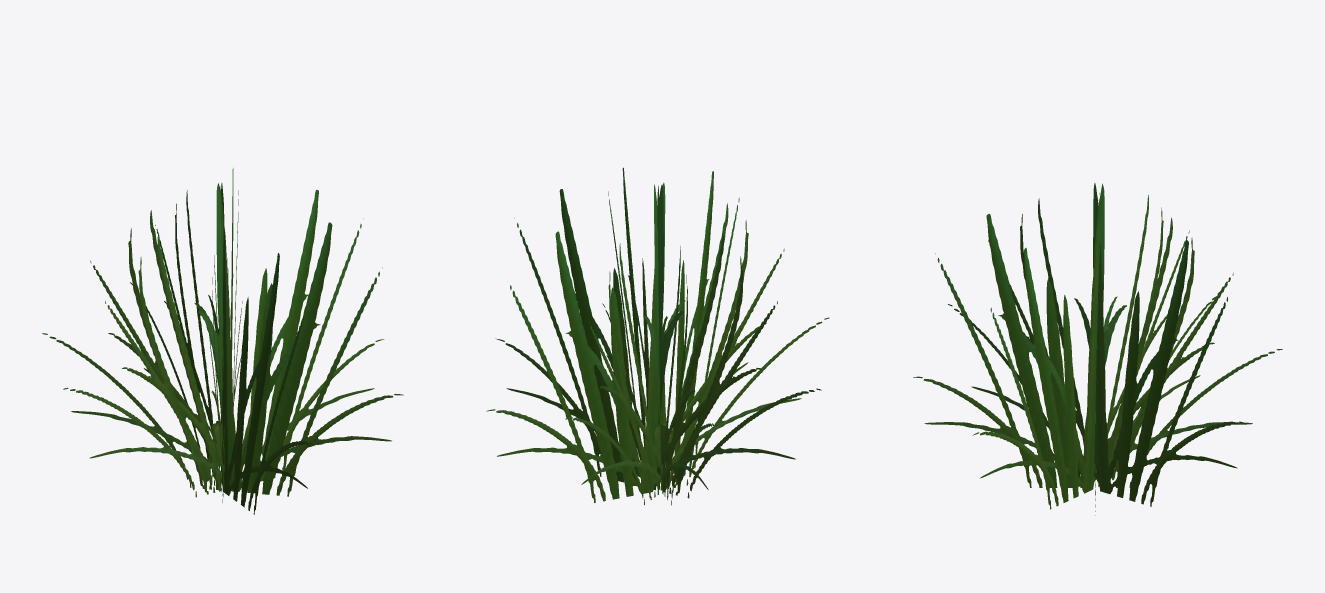
The model's file is grassblade-001-58.glb.
3 views of the same model, side by side, from view 1: azimuth 30°, elevation 25°; view 2: azimuth 150°, elevation 25°; view 3: azimuth 270°, elevation 25° (orthographic).
Visible parts, largest first — view 1: grassblade.001_58; view 2: grassblade.001_58; view 3: grassblade.001_58.
Part boxes in pixels (x1,y1,x2,y2): grassblade.001_58: (42,168,403,514); grassblade.001_58: (486,167,829,505); grassblade.001_58: (913,183,1282,515).
Size of the model in its own units: 9.27 by 9.27 by 9.27.
1 material, 1 textured.
